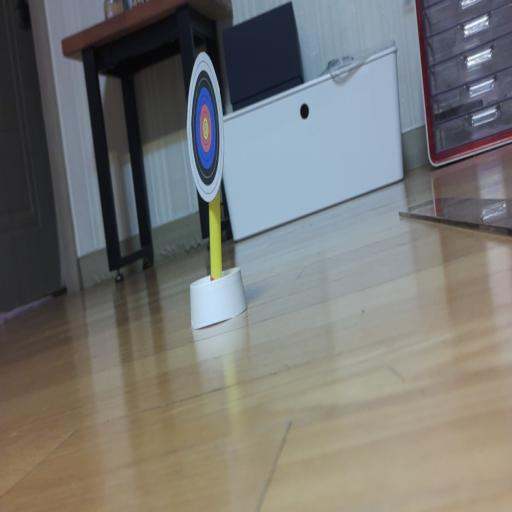target: (187, 52, 224, 201)
